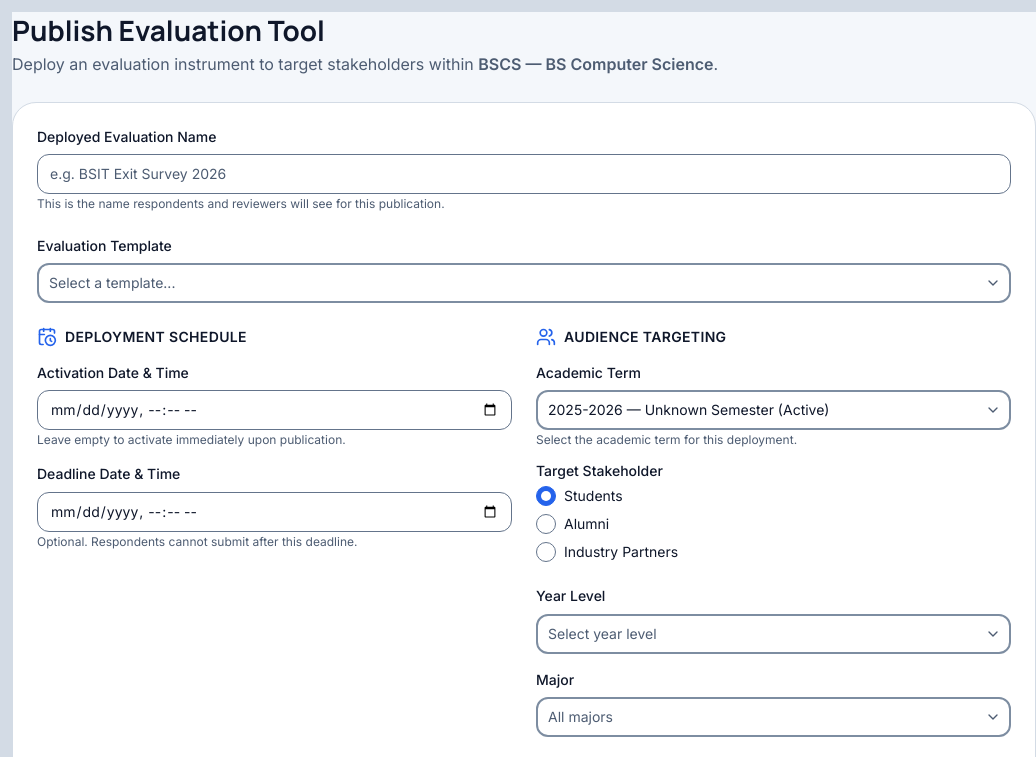
Test: PublishCentralDeploymentForm › shows the binding problem that still blocks publication
What coordinates should you click on to do the following:
click the dropdown named "Evaluation Template"
I would click on:
 (112, 283)
Its box is [37,263,1011,303].
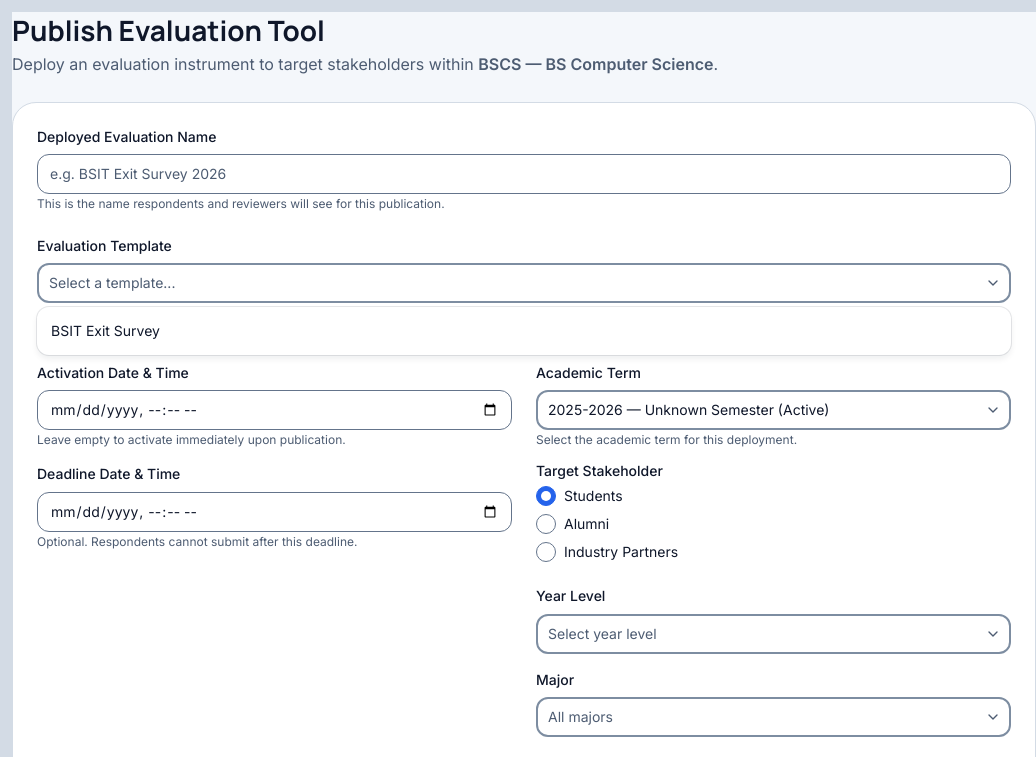
What coordinates should you click on to do the following:
click the option "BSIT Exit Survey"
I would click on:
 (106, 330)
Its box is [51,322,160,339].
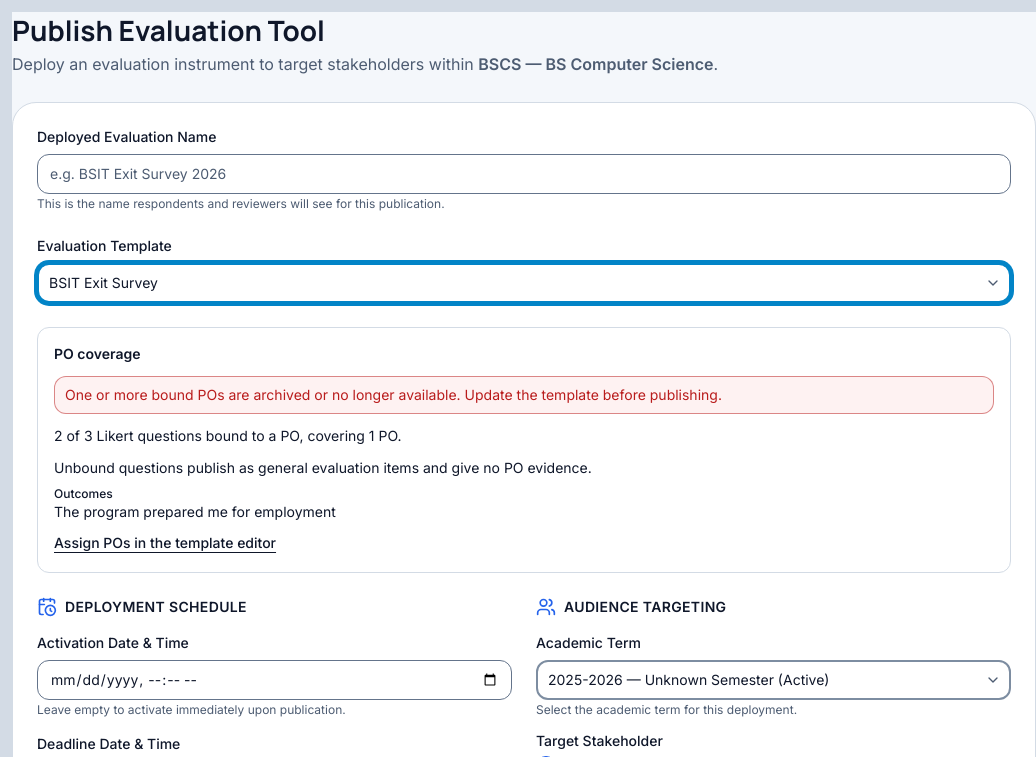
Now the message shows "One or more bound POs are archived or no longer available.", box [65,386,722,403]
Now the list item "The program prepared me for employment" is shown, box [54,503,336,520]
